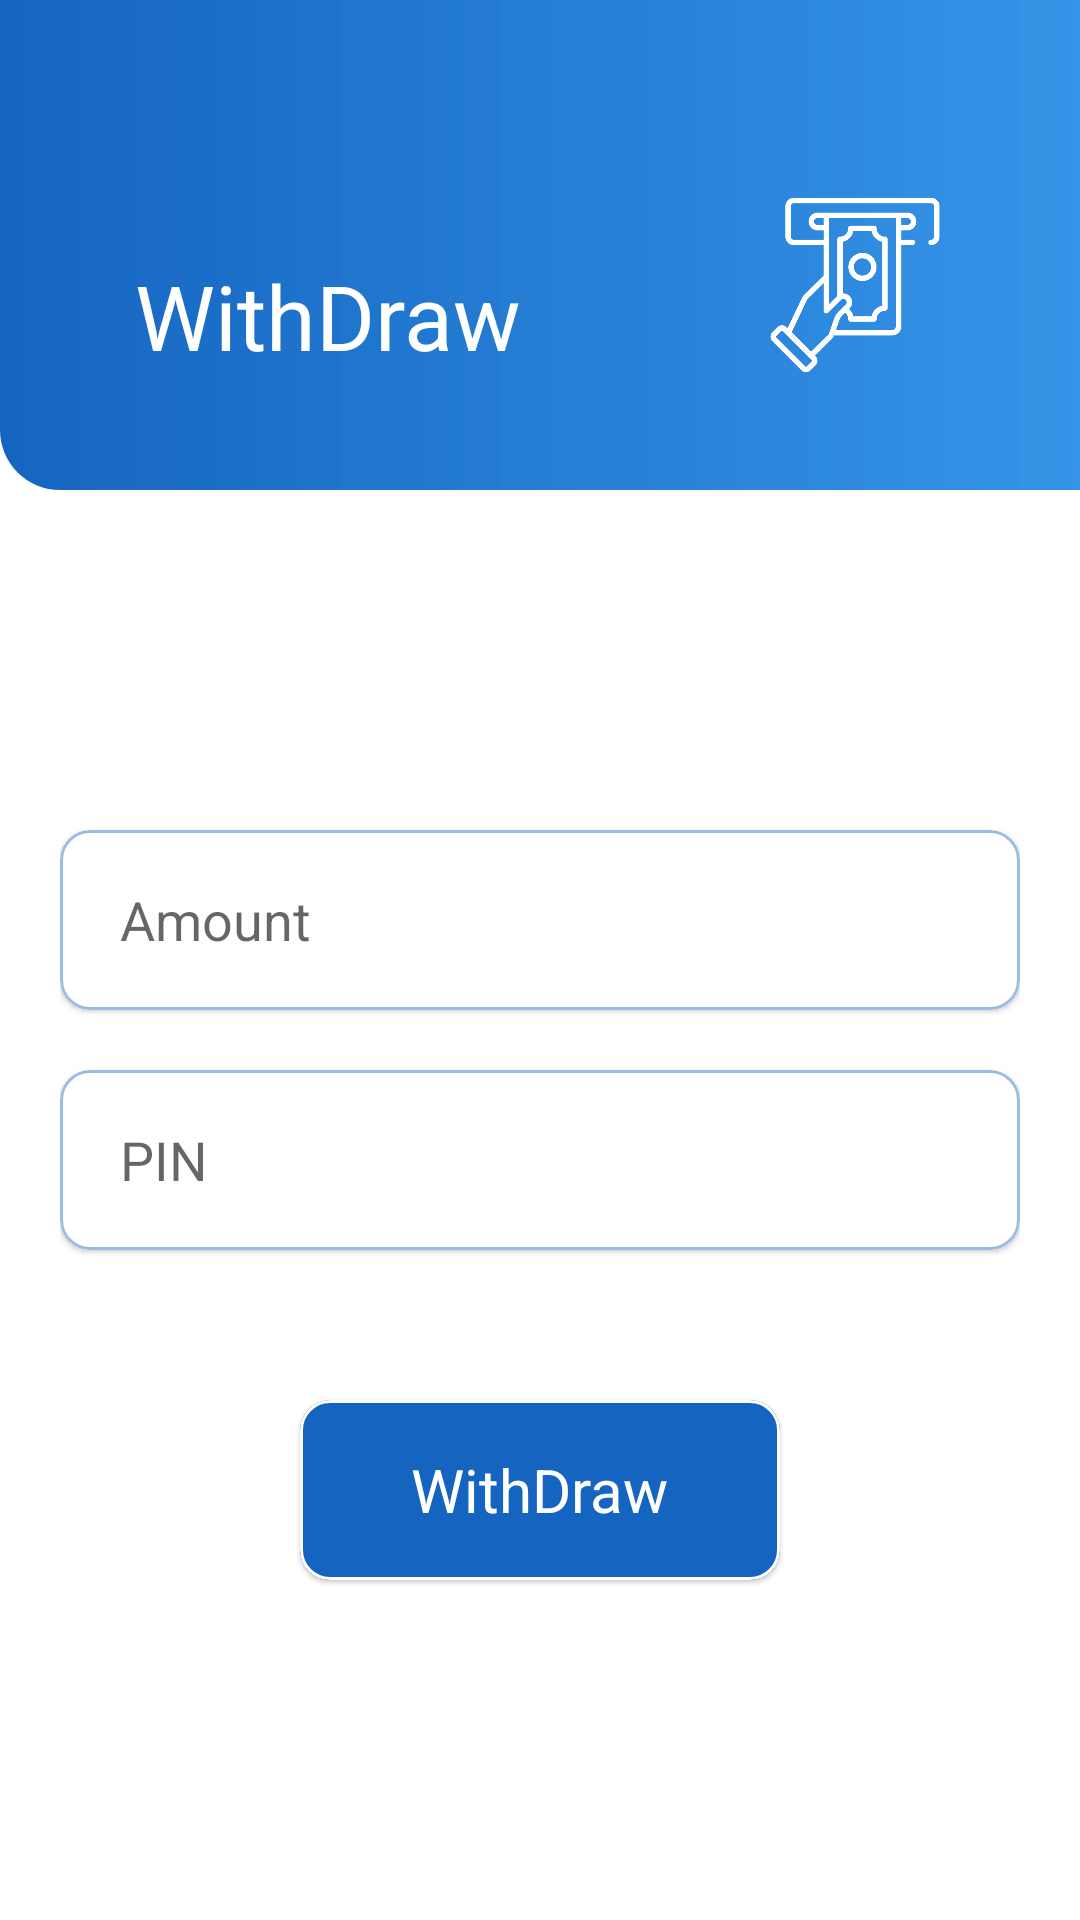

Screen size 1080px x 1920px. Icon name, then its box in pixels as (x1, y1, x2, y2):
withdraw: (770, 198, 940, 372)
